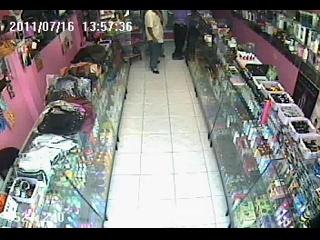Normal: (144, 11, 164, 74), (172, 10, 192, 60)
